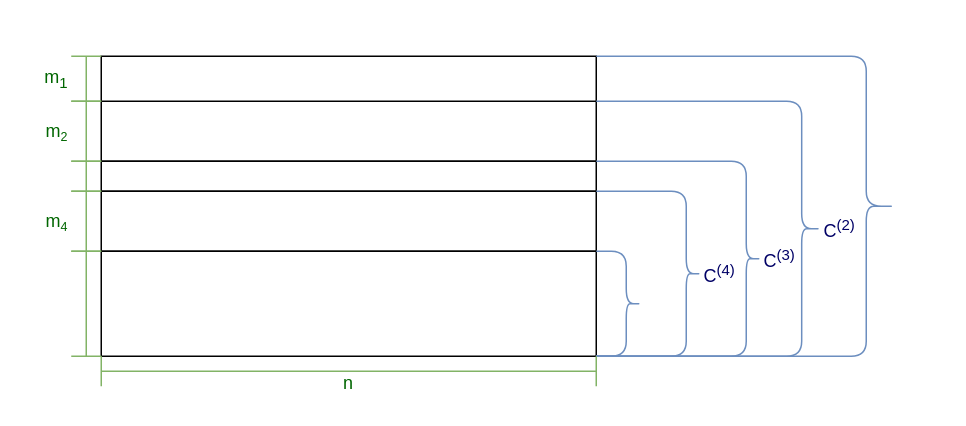
Image size: 966x426. Some labels were removed from this diagram. The shapes that lost their labels are listed below. From the top down, each one's box as (x1, y1, x2, y2) in pixels, then its label:
(70, 160, 101, 191): m 3
(595, 55, 896, 356): C (1)
(70, 250, 101, 356): m 5
(595, 250, 641, 356): C (5)
